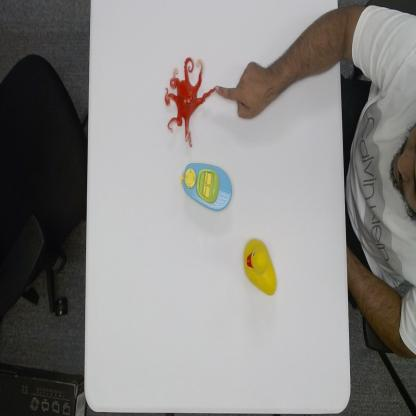Arm: (268, 0, 384, 105)
Boat: (180, 161, 233, 213)
Duck: (242, 236, 277, 297)
Hand: (217, 53, 268, 124)
Octopus: (163, 55, 216, 148)
